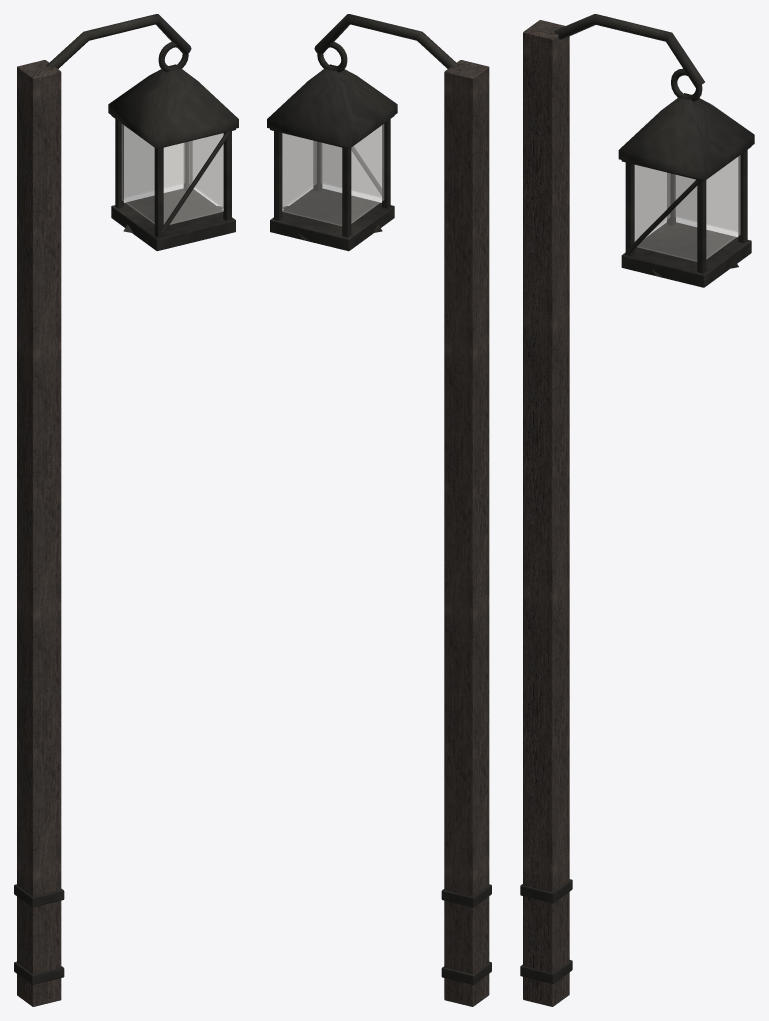
The model's file is Lantern_Post.gltf.
3 renders of one model, left to right at view 1: azimuth 30°, elevation 25°; view 2: azimuth 150°, elevation 25°; view 3: azimuth 330°, elevation 25°, orthographic. The views are drawn at different scales.
Parts seen in each view (by area): view 1: Lantern_Post; view 2: Lantern_Post; view 3: Lantern_Post.
Boxes of the visible parts, x1,y1,x2,y2 form: Lantern_Post: (14,14,238,1006); Lantern_Post: (267,14,491,1006); Lantern_Post: (520,14,754,1006).
Size of the model in its own units: 0.598 by 2.71 by 0.3.
Materials: 3 (2 with a texture image).
